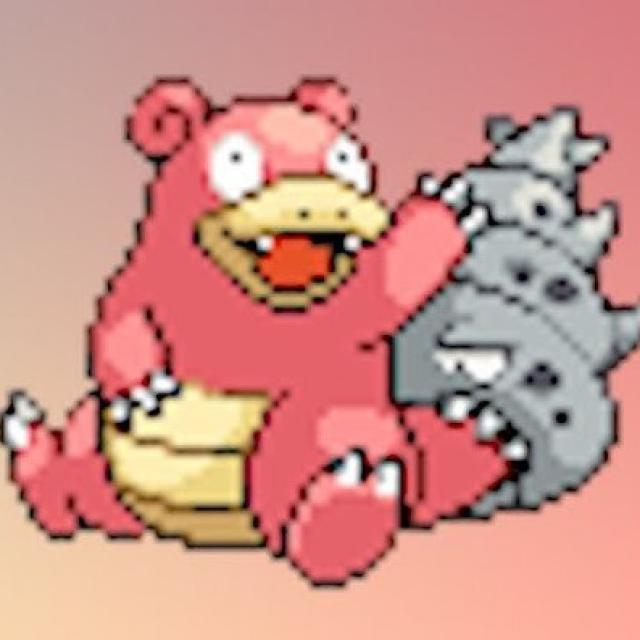Slowbro: (60, 81, 512, 544)
